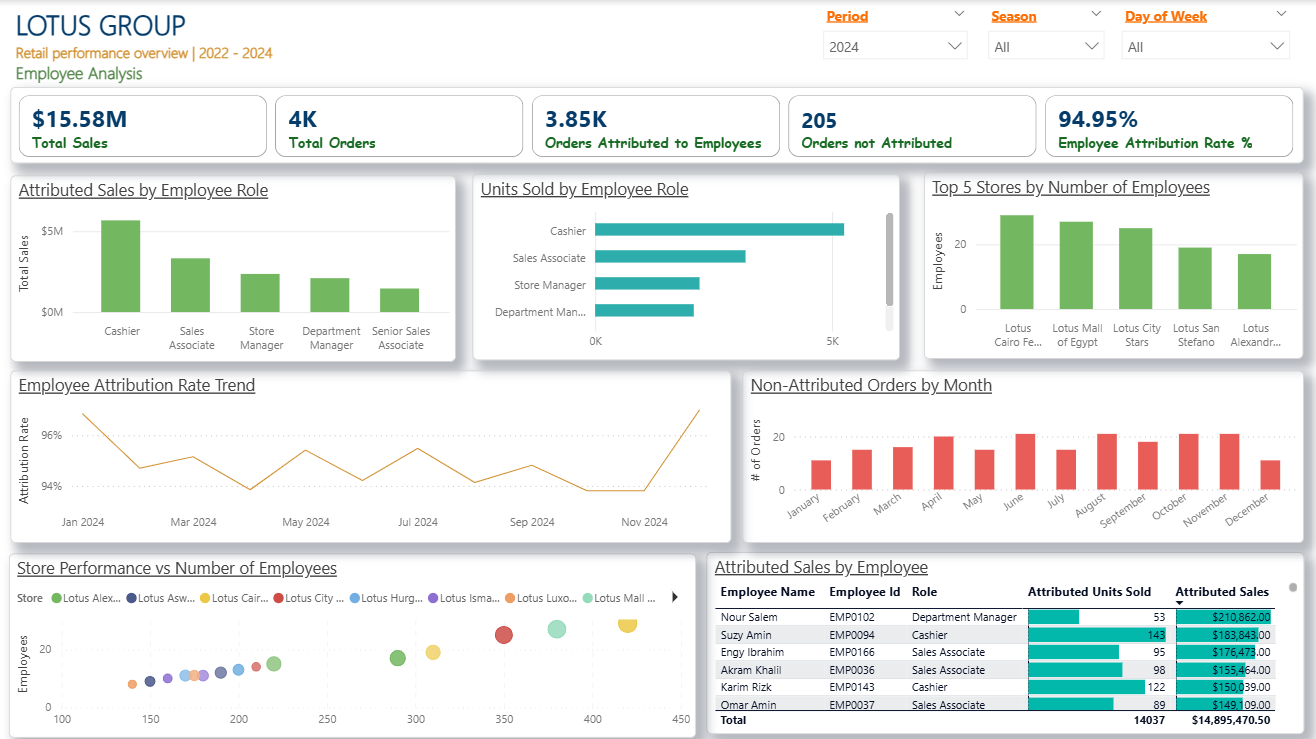

Layout of this report page (visuals, bound fields, positions):
{"tool":"powerbi","page":{"name":"Employee Analysis","canvas":[1280,720],"ordinal":4},"visuals":[{"type":"textbox","box":[10.6,0,311.9,87.6],"z":0},{"type":"slicer","fields":{"Values":["dim_date.full_date.Variation.Date Hierarchy.Year","dim_date.full_date.Variation.Date Hierarchy.Quarter","dim_date.full_date.Variation.Date Hierarchy.Month","dim_date.full_date.Variation.Date Hierarchy.Day"]},"box":[789.4,0,160,60],"z":1000},{"type":"cardVisual","fields":{"Data":["_Measures.Total Sales","_Measures.Total Orders","_Measures.Orders with Employee ID","_Measures.Orders without Employee ID","_Measures.Employee Attribution Rate %"]},"box":[10.4,92,1255.1,60.8],"z":2000},{"type":"clusteredBarChart","title":"Units Sold by Employee Role","fields":{"Y":["_Measures.Units Sold"],"Category":["dim_employees.role"]},"box":[459.1,165.9,414.1,179.9],"z":3000},{"type":"clusteredColumnChart","title":"Top 5 Stores by Number of Employees","fields":{"Category":["dim_stores.store_name"],"Y":["_Measures.Number of Employees"]},"box":[896.4,165.9,369.1,179.9],"z":4000},{"type":"tableEx","title":"Attributed Sales by Employee","fields":{"Values":["dim_employees.Employee Name","dim_employees.employee_id","dim_employees.role","_Measures.Units Sold","_Measures.Total Sales"]},"box":[684.9,536.2,580,176.5],"z":5000},{"type":"clusteredColumnChart","title":"Attributed Sales by Employee Role","fields":{"Category":["dim_employees.role"],"Y":["_Measures.Total Sales"]},"box":[10.9,165.9,431.1,179.9],"z":6000},{"type":"scatterChart","title":"Store Performance vs Number of Employees","fields":{"X":["dim_stores.size_sqm"],"Y":["_Measures.Number of Employees"],"Size":["_Measures.Units Sold"],"Series":["dim_stores.store_name"]},"box":[9.3,536.6,666.9,178.4],"z":7000},{"type":"lineChart","title":"Employee Attribution Rate Trend","fields":{"Y":["_Measures.Employee Attribution Rate %"],"Category":["dim_date.full_date.Variation.Date Hierarchy.Year","dim_date.full_date.Variation.Date Hierarchy.Quarter","dim_date.full_date.Variation.Date Hierarchy.Month"]},"box":[10.9,359.8,699.5,167.5],"z":8000},{"type":"slicer","fields":{"Values":["dim_date.Period Type"]},"box":[949.4,0,132.9,60],"z":9000},{"type":"slicer","fields":{"Values":["dim_date.Day Type"]},"box":[1078.8,0,183,60.4],"z":10000},{"type":"clusteredColumnChart","title":"Non-Attributed Orders by Month","fields":{"Category":["dim_date.full_date.Variation.Date Hierarchy.Month"],"Y":["_Measures.Orders without Employee ID"]},"box":[721.2,359.8,544.4,167.5],"z":10001}]}

Visuals, with their boxes in screenshot pixels (x1, y1, x2, y2), scaled from the page's 1280x720 canvas onto the 1316x739 screenshot:
textbox: x1=11, y1=0, x2=332, y2=90
slicer - dim_date.full_date.Variation.Date Hierarchy.Year x dim_date.full_date.Variation.Date Hierarchy.Quarter: x1=812, y1=0, x2=976, y2=62
cardVisual - _Measures.Total Sales x _Measures.Total Orders: x1=11, y1=94, x2=1301, y2=157
"Units Sold by Employee Role" clusteredBarChart: x1=472, y1=170, x2=898, y2=355
"Top 5 Stores by Number of Employees" clusteredColumnChart: x1=922, y1=170, x2=1301, y2=355
"Attributed Sales by Employee" tableEx: x1=704, y1=550, x2=1300, y2=732
"Attributed Sales by Employee Role" clusteredColumnChart: x1=11, y1=170, x2=454, y2=355
"Store Performance vs Number of Employees" scatterChart: x1=10, y1=551, x2=695, y2=734
"Employee Attribution Rate Trend" lineChart: x1=11, y1=369, x2=730, y2=541
slicer - dim_date.Period Type: x1=976, y1=0, x2=1113, y2=62
slicer - dim_date.Day Type: x1=1109, y1=0, x2=1297, y2=62
"Non-Attributed Orders by Month" clusteredColumnChart: x1=741, y1=369, x2=1301, y2=541
